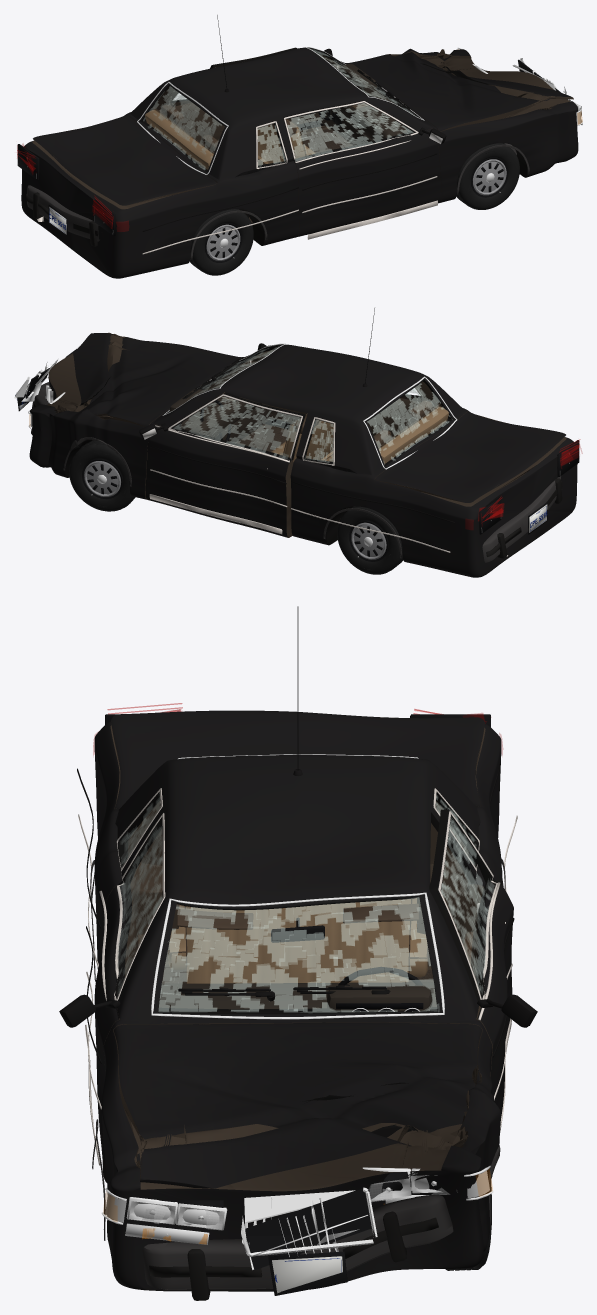
Rendered from coupe84_front_corner_d1_lod1.glb.
3 renders of one model, top to bottom at view 1: azimuth 30°, elevation 25°; view 2: azimuth 150°, elevation 25°; view 3: azimuth 270°, elevation 25°, orthographic. The views are drawn at different scales.
Visible parts, largest first — view 1: Body, Door_FR, Trunk, Hood, Interior, Glass, Glass_FR, Wheel_FR_mesh, Wheel_RR_mesh, Trim_FR, Ends, Trim (+3 smaller); view 2: Body, Door_FL, Hood, Trunk, Interior, Glass, Wheel_FL_mesh, Wheel_RL_mesh, Glass_FL, Ends, Trim_FL, Trim (+3 smaller); view 3: Body, Hood, Interior, Glass, Trunk, Ends, Bumper_F, Door_FL, Door_FR, Trim, Glass_FL, Trim_FR (+3 smaller).
Part boxes in pixels (<box>): Body: <box>21,47,578,278</box>; Door_FR: <box>283,100,441,236</box>; Trunk: <box>33,115,217,205</box>; Hood: <box>348,52,573,131</box>; Interior: <box>145,64,410,169</box>; Glass: <box>137,47,424,174</box>; Glass_FR: <box>284,101,414,163</box>; Wheel_FR_mesh: <box>456,143,519,209</box>; Wheel_RR_mesh: <box>189,209,253,275</box>; Trim_FR: <box>284,101,446,239</box>; Ends: <box>17,47,582,236</box>; Trim: <box>142,15,529,259</box>; Body: <box>29,344,577,577</box>; Door_FL: <box>145,392,305,537</box>; Hood: <box>72,332,241,426</box>; Trunk: <box>375,411,565,502</box>; Interior: <box>170,365,448,463</box>; Glass: <box>162,343,457,469</box>; Wheel_FL_mesh: <box>69,440,135,511</box>; Wheel_RL_mesh: <box>337,506,403,574</box>; Glass_FL: <box>172,394,303,463</box>; Ends: <box>14,348,579,534</box>; Trim_FL: <box>139,394,302,534</box>; Trim: <box>63,308,454,558</box>; Body: <box>94,721,501,1291</box>; Hood: <box>113,1022,482,1188</box>; Interior: <box>159,898,436,1011</box>; Glass: <box>120,754,476,1019</box>; Trunk: <box>111,710,484,808</box>; Ends: <box>101,714,493,1295</box>; Bumper_F: <box>142,1194,453,1300</box>; Door_FL: <box>429,809,513,1117</box>; Door_FR: <box>94,812,166,1154</box>; Trim: <box>77,606,517,1240</box>; Glass_FL: <box>437,818,497,993</box>; Trim_FR: <box>59,813,165,1165</box>.
Bounding box in the file's own units: 5.16 × 2.17 × 2.13.
34 materials, 5 textured.
